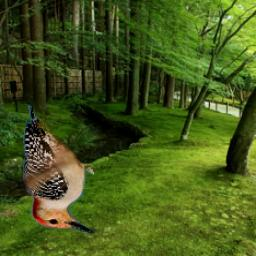Woodpecker: (24, 105, 95, 234)
